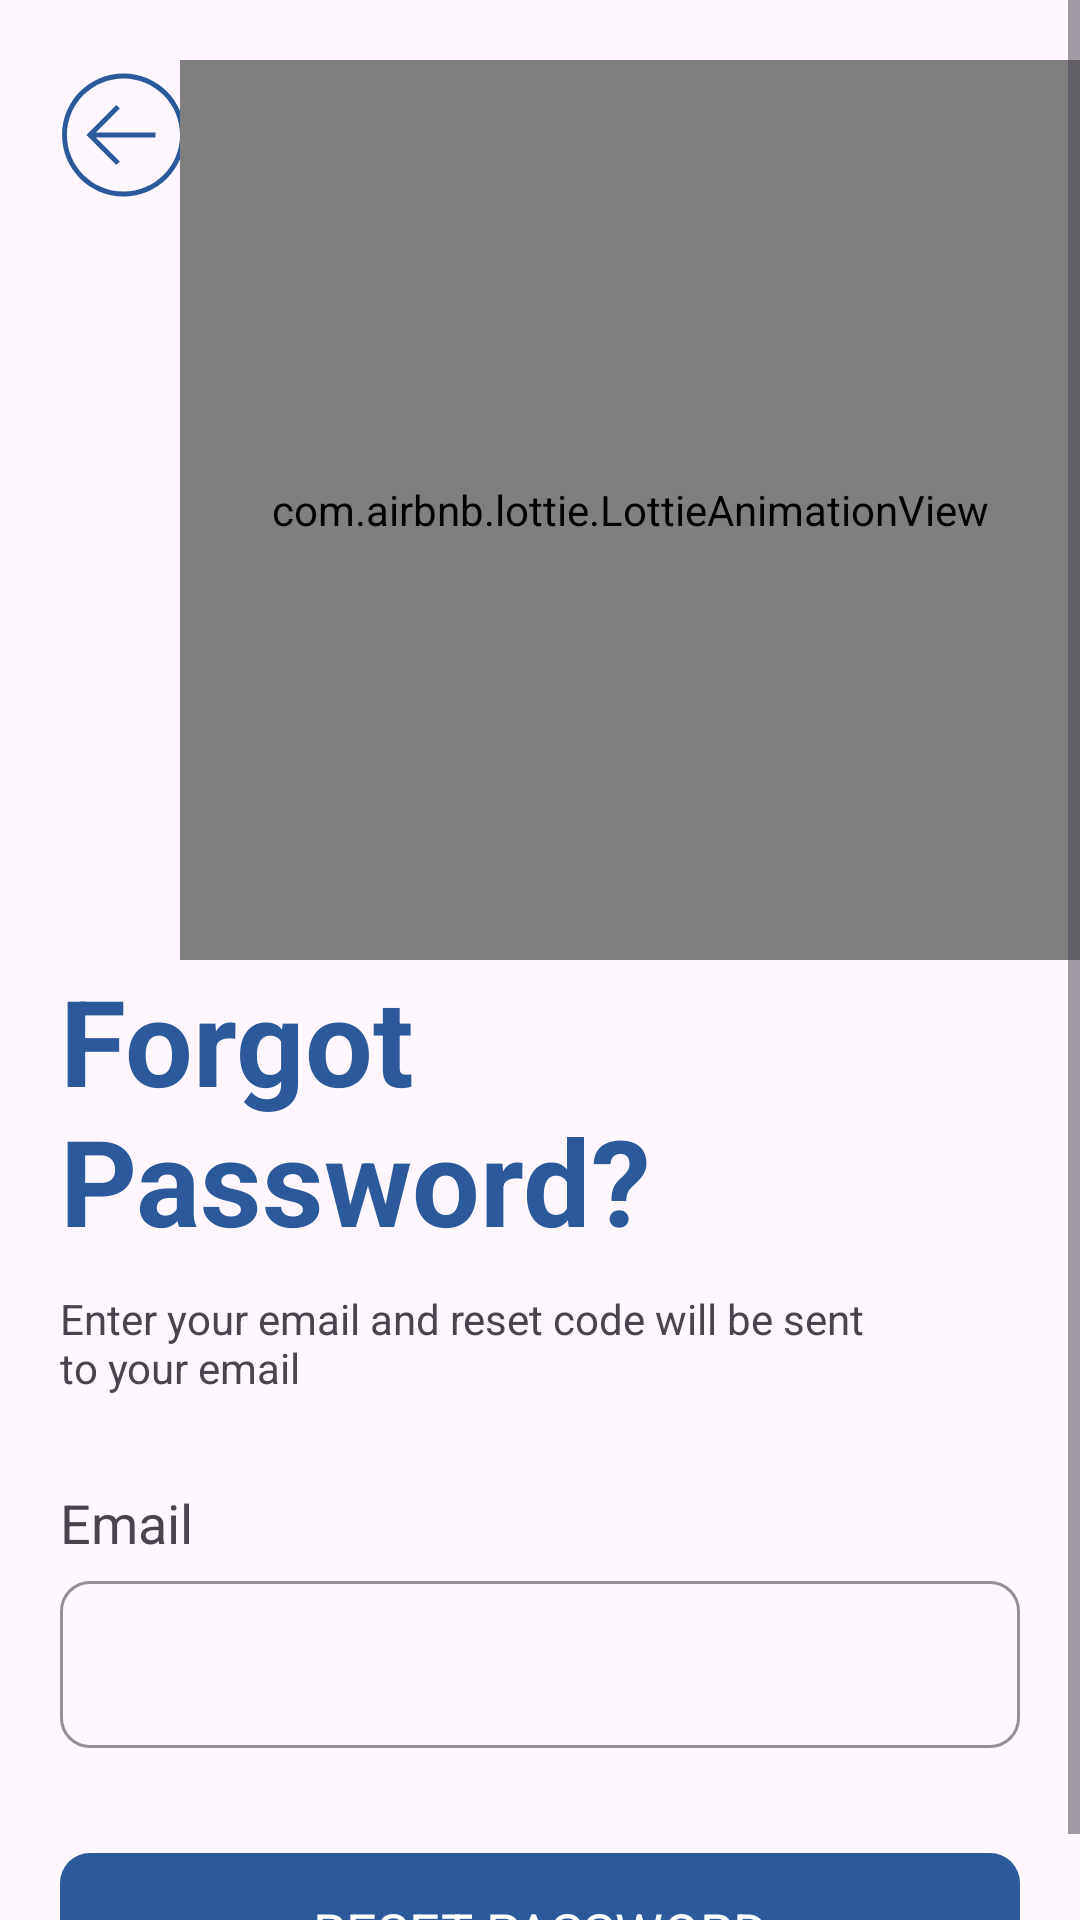

Locate icon controls on the screen. Image size 1080 × 1920, boxes as (left=x1, top=y1, right=x2, bottom=y2).
left arrow: (left=62, top=60, right=198, bottom=210)
